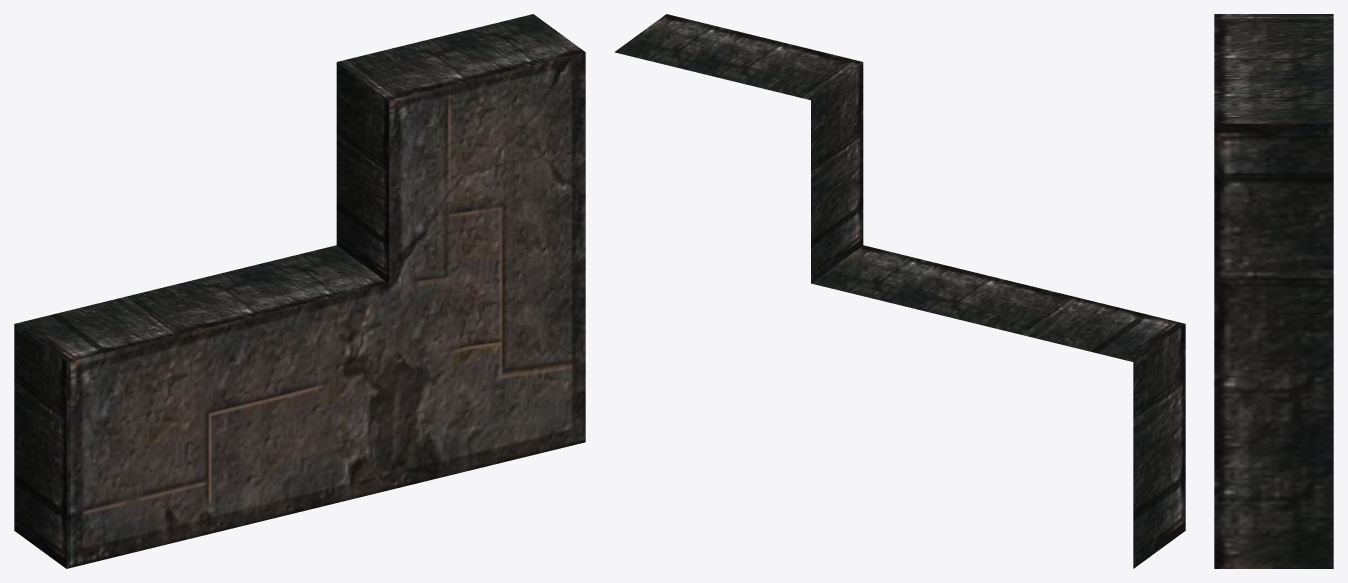
3 views of the same model, side by side, from view 1: azimuth 30°, elevation 25°; view 2: azimuth 150°, elevation 25°; view 3: azimuth 270°, elevation 25° (orthographic). The views are drawn at different scales.
Parts seen in each view (by area): view 1: model_Object58; view 2: model_Object58; view 3: model_Object58.
Boxes of the visible parts, bbox=[...] form: model_Object58: bbox=[14, 14, 585, 568]; model_Object58: bbox=[614, 14, 1185, 568]; model_Object58: bbox=[1214, 14, 1333, 568].
Size of the model in its own units: 2.86 by 2.05 by 0.4991.
Materials: 1 (1 with a texture image).
